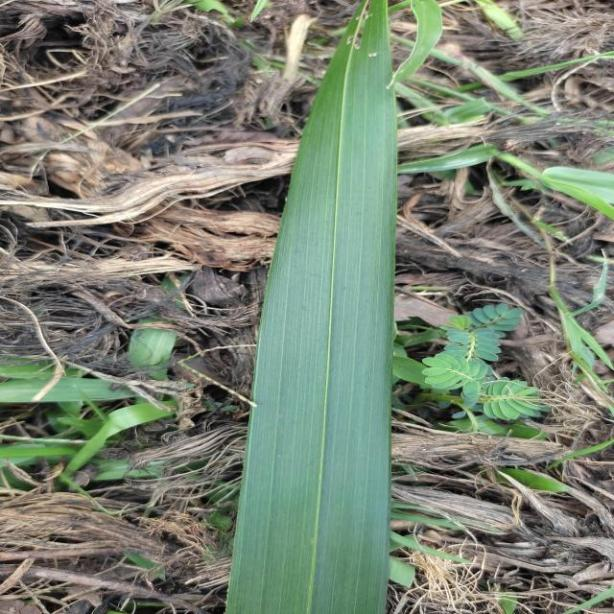Boron: (226, 0, 393, 614)
